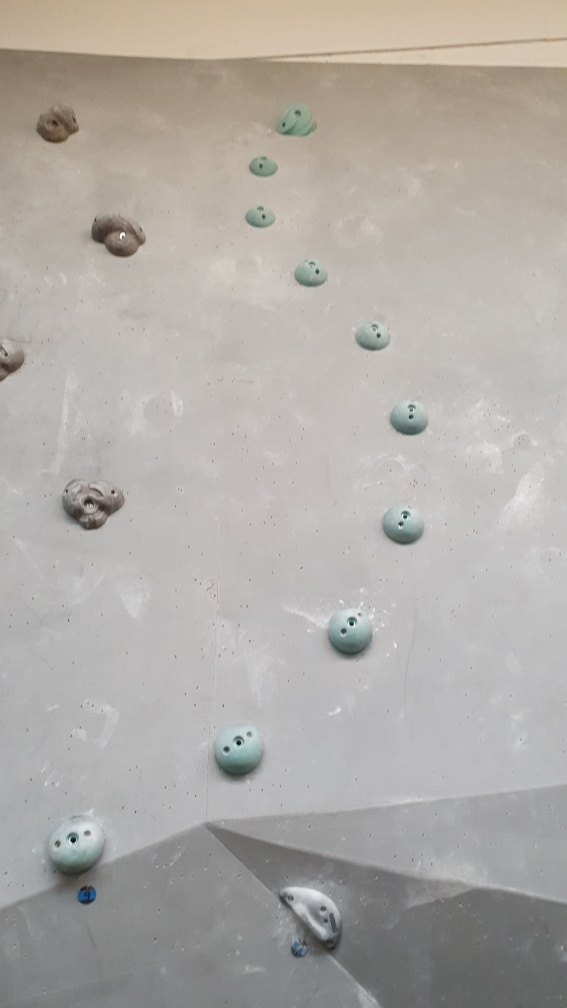Hand Start: (75, 882, 101, 909), (290, 935, 310, 960)
Jug: (60, 474, 130, 533), (88, 208, 148, 261), (33, 97, 84, 147), (274, 100, 319, 140)
Sloper: (45, 813, 108, 878), (214, 722, 265, 778), (325, 605, 377, 656), (380, 504, 427, 545), (388, 398, 430, 436), (351, 317, 395, 353), (293, 257, 331, 288), (243, 200, 278, 232), (246, 154, 280, 179)
